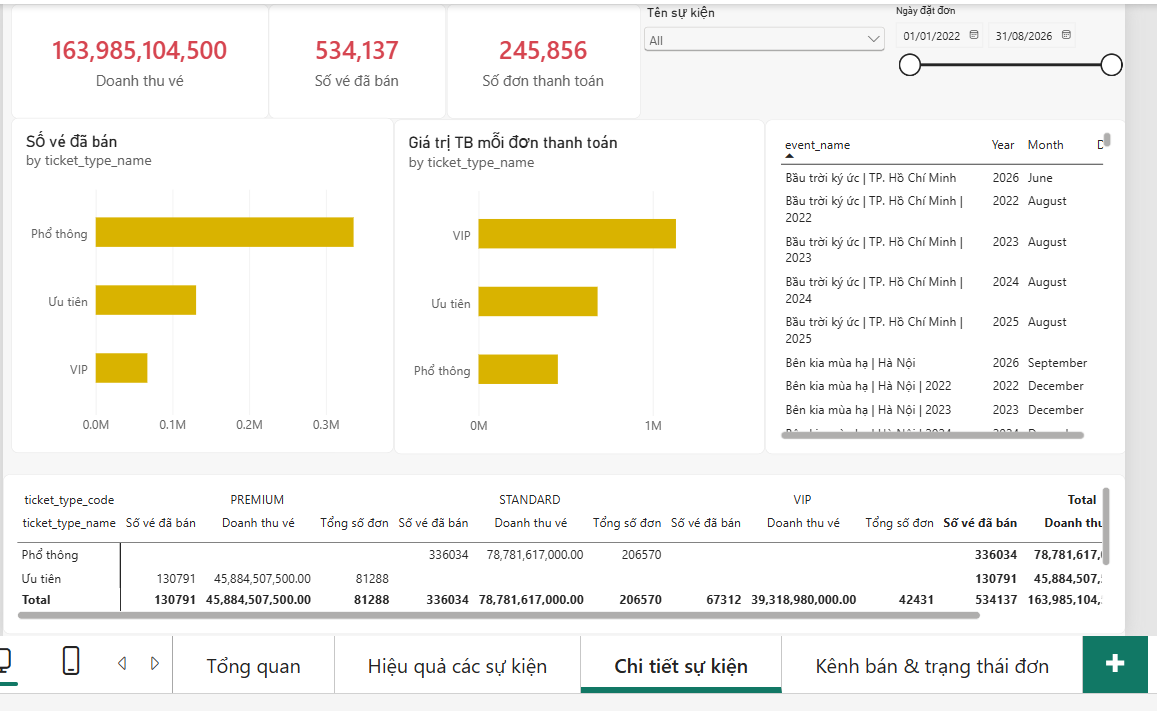

Layout of this report page (visuals, bound fields, positions):
{"tool":"powerbi","page":{"name":"Chi tiết sự kiện","canvas":[1280,720],"ordinal":2},"visuals":[{"type":"slicer","title":"1","fields":{"Values":["gold dim_date.full_date"]},"box":[1011.2,0,269.7,131.1],"z":0},{"type":"slicer","fields":{"Values":["gold dim_event.event_name"]},"box":[726.6,0,284.6,131.1],"z":1000},{"type":"card","fields":{"Values":["gold fact_ticket_sales.Doanh thu vé"]},"box":[9.4,0,294,131.1],"z":2000},{"type":"card","fields":{"Values":["gold fact_ticket_sales.Số vé đã bán"]},"box":[303.4,0,202.2,131.1],"z":3000},{"type":"card","fields":{"Values":["gold fact_ticket_sales.Số đơn thanh toán"]},"box":[505.6,0,221,131.1],"z":4000},{"type":"tableEx","fields":{"Values":["gold dim_event.event_name","gold dim_event.starts_at.Variation.Date Hierarchy.Year","gold dim_event.starts_at.Variation.Date Hierarchy.Month","gold dim_event.starts_at.Variation.Date Hierarchy.Day"]},"box":[868.9,131.1,412,382],"z":5000},{"type":"pivotTable","fields":{"Columns":["gold dim_ticket_type.ticket_type_code"],"Rows":["gold dim_ticket_type.ticket_type_name"],"Values":["gold fact_ticket_sales.Số vé đã bán","gold fact_ticket_sales.Doanh thu vé","gold fact_ticket_sales.Tổng số đơn"]},"box":[0,536.4,1280.5,182.7],"z":6000},{"type":"clusteredBarChart","fields":{"Category":["gold dim_ticket_type.ticket_type_name"],"Y":["gold fact_ticket_sales.Số vé đã bán"]},"box":[9.6,130.7,436.4,382.6],"z":7000},{"type":"clusteredBarChart","fields":{"Category":["gold dim_ticket_type.ticket_type_name"],"Y":["gold fact_ticket_sales.Giá trị TB mỗi đơn thanh toán"]},"box":[445.7,131.1,423.2,382],"z":8000}]}

Visuals, with their boxes on the page's 1280x720 design canvas (x1, y1, x2, y2). These are canvas units, not pixel positions in the 1157x711 screenshot, which may show the page scaled, cropped or inside an application window:
"1" slicer: bbox(1011, 0, 1281, 131)
slicer - gold dim_event.event_name: bbox(727, 0, 1011, 131)
card - gold fact_ticket_sales.Doanh thu vé: bbox(9, 0, 303, 131)
card - gold fact_ticket_sales.Số vé đã bán: bbox(303, 0, 506, 131)
card - gold fact_ticket_sales.Số đơn thanh toán: bbox(506, 0, 727, 131)
tableEx - gold dim_event.event_name x gold dim_event.starts_at.Variation.Date Hierarchy.Year: bbox(869, 131, 1281, 513)
pivotTable - gold dim_ticket_type.ticket_type_code x gold dim_ticket_type.ticket_type_name: bbox(0, 536, 1280, 719)
clusteredBarChart - gold dim_ticket_type.ticket_type_name x gold fact_ticket_sales.Số vé đã bán: bbox(10, 131, 446, 513)
clusteredBarChart - gold dim_ticket_type.ticket_type_name x gold fact_ticket_sales.Giá trị TB mỗi đơn thanh toán: bbox(446, 131, 869, 513)
